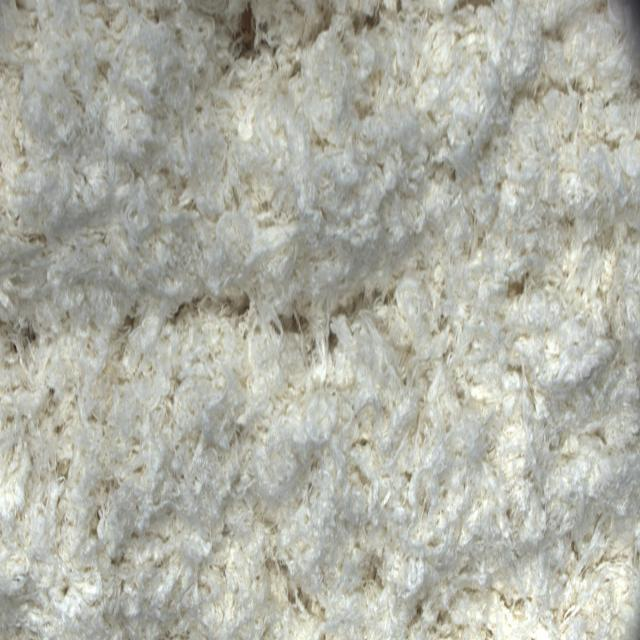dust: (214, 7, 305, 75)
